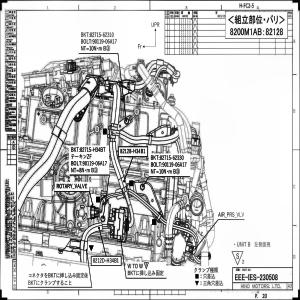PartNumber: (82, 159, 108, 167), (162, 161, 187, 169), (92, 257, 119, 264), (80, 146, 106, 153), (120, 148, 146, 155), (92, 38, 117, 45), (160, 155, 186, 161), (90, 32, 115, 38)
